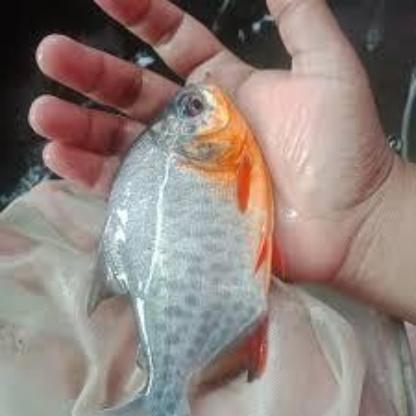ikan-pacu: (82, 75, 276, 415)
